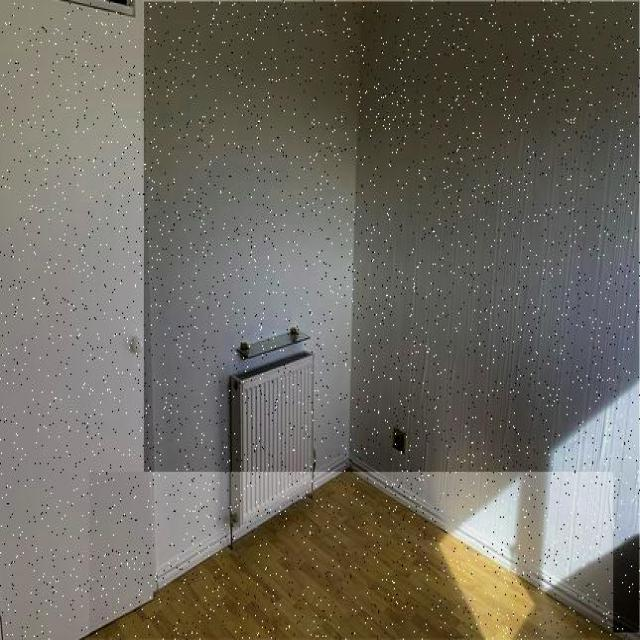Wall: (353, 2, 640, 633), (144, 2, 360, 585), (90, 473, 613, 639)
